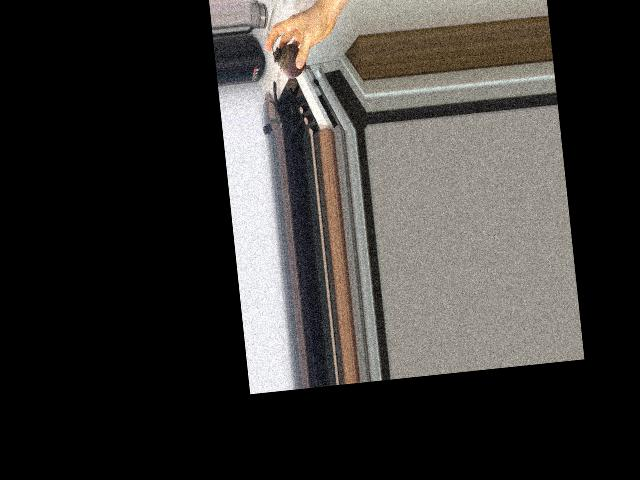beet: (271, 32, 313, 80)
